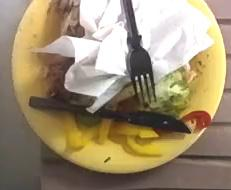lettuce: (105, 65, 197, 118)
peppers: (55, 112, 160, 170)
